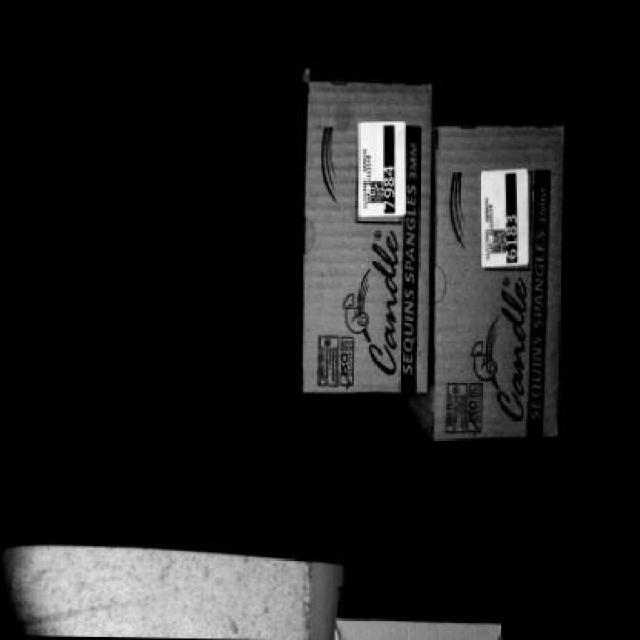cardboxes: (304, 74, 436, 398), (438, 122, 562, 441)
